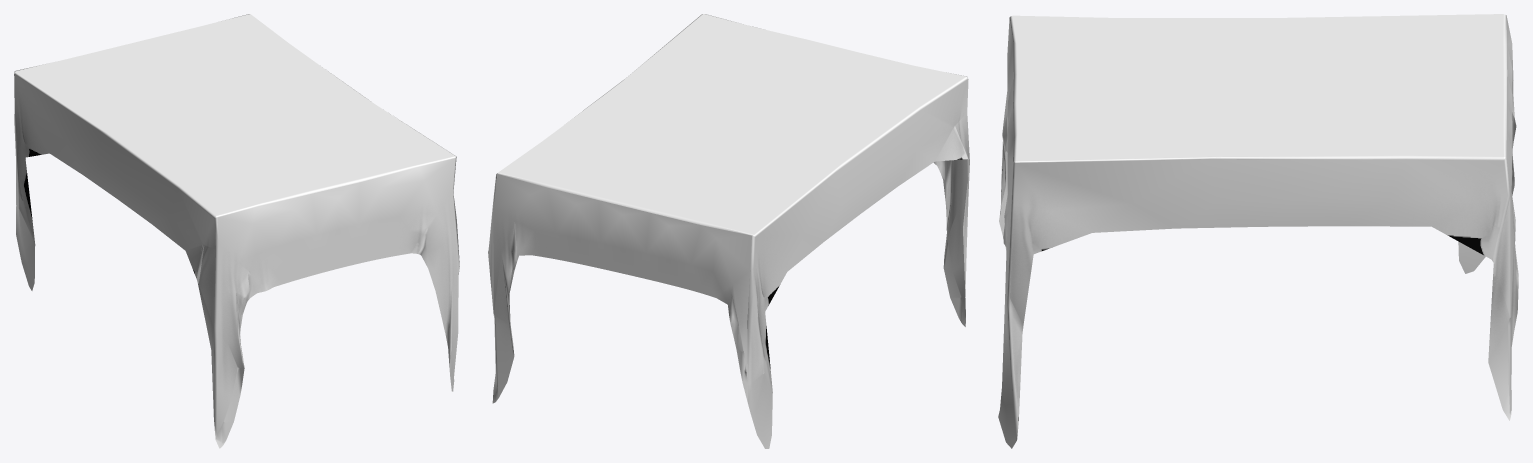
File: tarp.fbx
3 renders of one model, left to right at view 1: azimuth 30°, elevation 25°; view 2: azimuth 150°, elevation 25°; view 3: azimuth 270°, elevation 25°, orthographic. The views are drawn at different scales.
Parts seen in each view (by area): view 1: low Poly; view 2: low Poly; view 3: low Poly.
Part boxes in pixels (x1,y1,x2,y2): low Poly: [14, 14, 459, 448]; low Poly: [488, 14, 969, 448]; low Poly: [998, 14, 1518, 448].
Bounding box in the file's own units: 251 × 215 × 350.
1 material, 1 textured.
